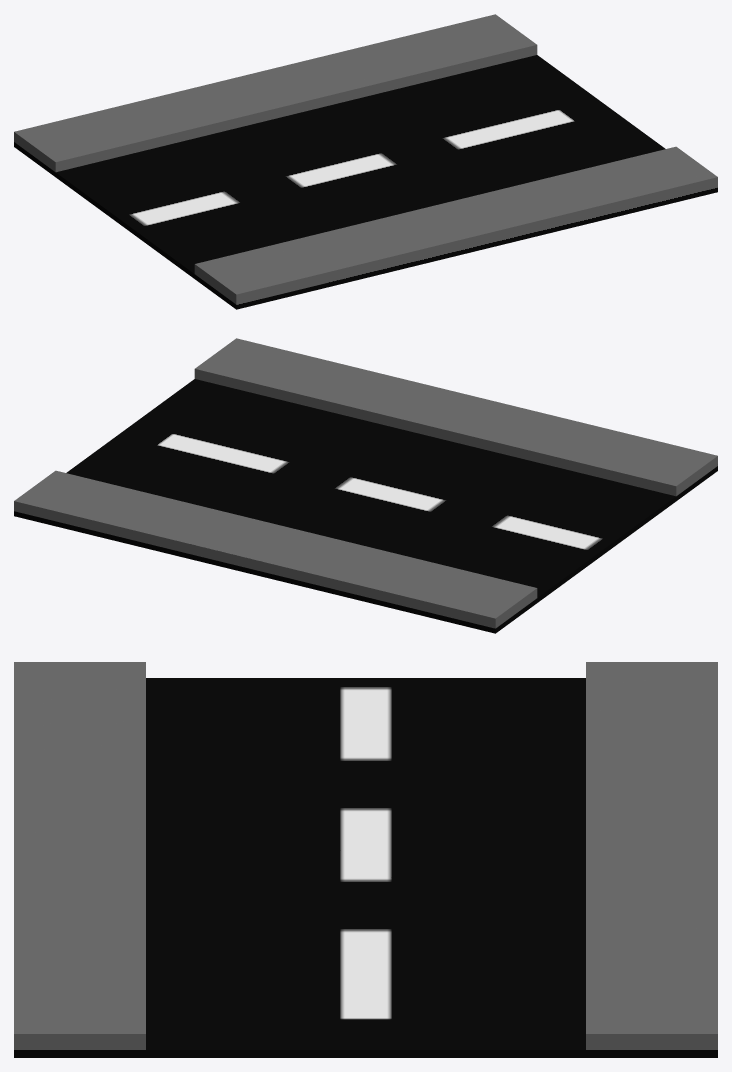
Rendered from road.gltf.
3 views of the same model, one above another, from view 1: azimuth 30°, elevation 25°; view 2: azimuth 150°, elevation 25°; view 3: azimuth 270°, elevation 25° (orthographic). The views are drawn at different scales.
Visible parts, largest first — view 1: Cube; view 2: Cube; view 3: Cube.
Part boxes in pixels (left/top/right/bottom): Cube: left=14, top=14, right=717, bottom=309; Cube: left=14, top=338, right=717, bottom=633; Cube: left=14, top=662, right=717, bottom=1057.
Size of the model in its own units: 20 by 0.6 by 16.
1 material, 1 textured.
